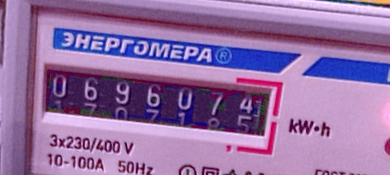0: (49, 73, 71, 100), (175, 85, 195, 113)
4: (238, 92, 256, 115)
5: (235, 114, 253, 136)
6: (144, 81, 165, 110), (81, 76, 102, 103)
7: (207, 90, 226, 118)
9: (113, 79, 132, 106)
screen: (27, 51, 288, 161)
